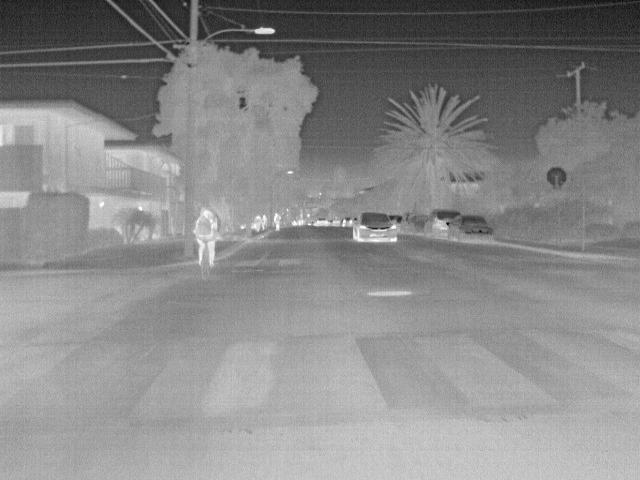car: (447, 214, 496, 243), (351, 212, 398, 242), (427, 210, 460, 236), (407, 213, 430, 232), (315, 215, 330, 226)
person: (195, 207, 219, 265), (273, 212, 284, 232), (262, 213, 270, 232)
